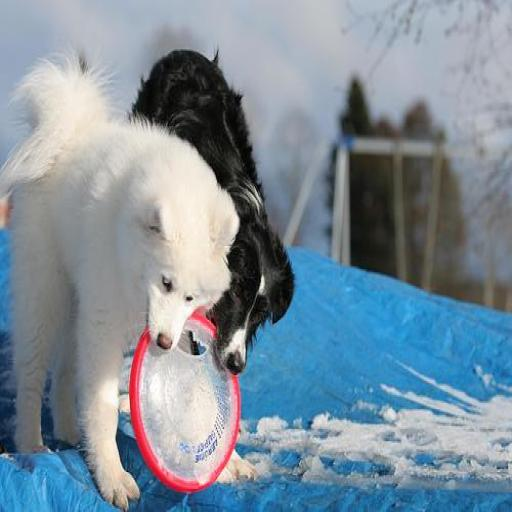dog_face: (136, 182, 226, 345), (220, 218, 298, 368)
